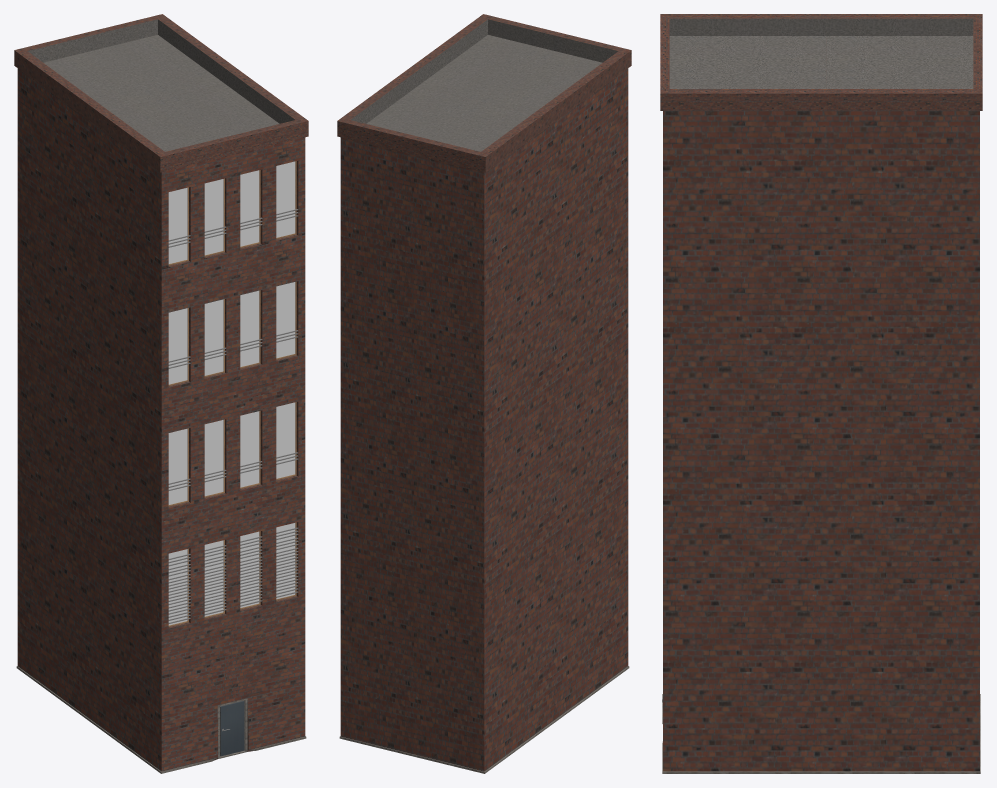
The model's file is building2.fbx.
3 renders of one model, left to right at view 1: azimuth 30°, elevation 25°; view 2: azimuth 150°, elevation 25°; view 3: azimuth 270°, elevation 25°, orthographic. The views are drawn at different scales.
Visible parts, largest first — view 1: building2; view 2: building2; view 3: building2.
Part boxes in pixels (box(x1,y1,x2,y2)): building2: box(14, 14, 308, 773); building2: box(337, 14, 631, 773); building2: box(660, 14, 982, 773).
Bounding box in the file's own units: 8973 × 35714 × 15315.
